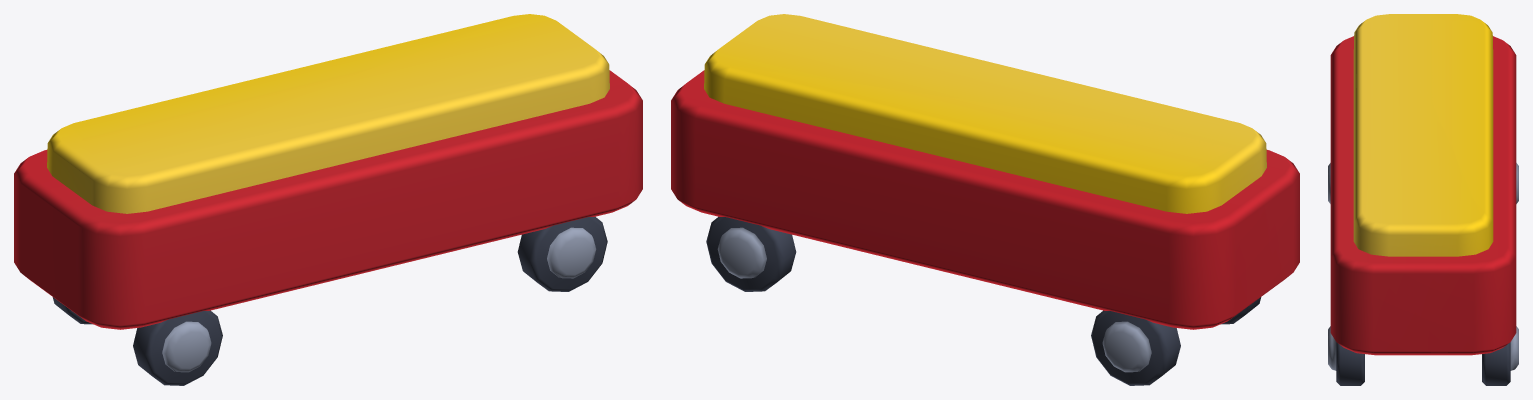
The model's file is Slider_3.fbx.
3 views of the same model, side by side, from view 1: azimuth 30°, elevation 25°; view 2: azimuth 150°, elevation 25°; view 3: azimuth 270°, elevation 25° (orthographic). The views are drawn at different scales.
Visible parts, largest first — view 1: Slider 3; view 2: Slider 3; view 3: Slider 3.
Part boxes in pixels (<box>): Slider 3: <box>14,14,642,385</box>; Slider 3: <box>671,14,1299,385</box>; Slider 3: <box>1328,14,1518,385</box>.
Bounding box in the file's own units: 299 × 107 × 102.
